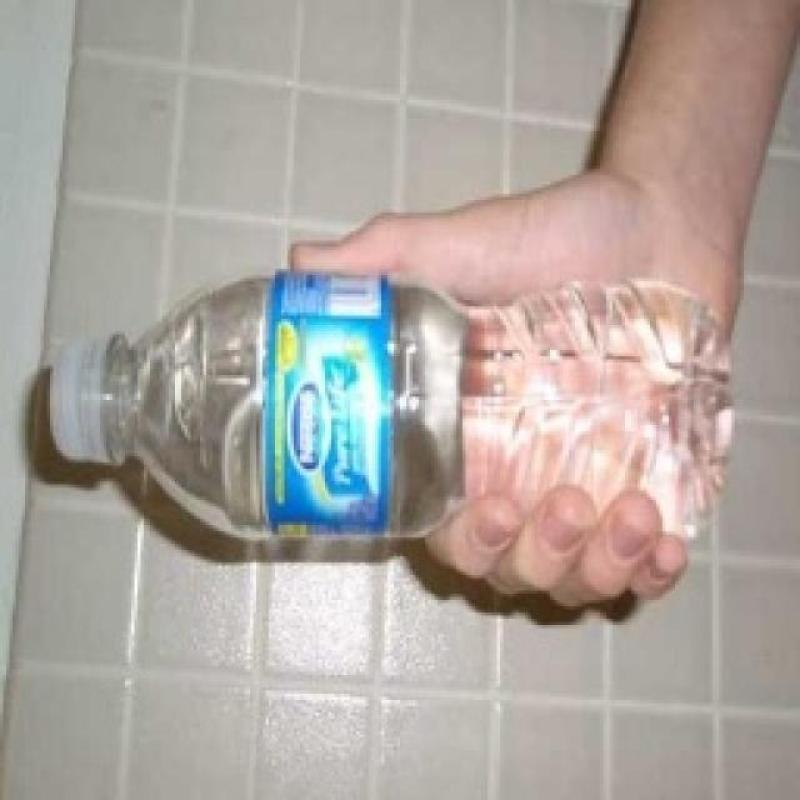botella: (47, 269, 734, 554)
